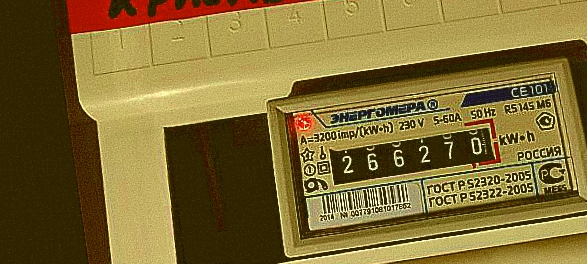0: (468, 134, 483, 156)
2: (338, 153, 356, 175), (415, 143, 432, 164)
6: (364, 150, 380, 173), (391, 147, 406, 169)
7: (441, 139, 456, 160)
screen: (318, 114, 507, 193)
